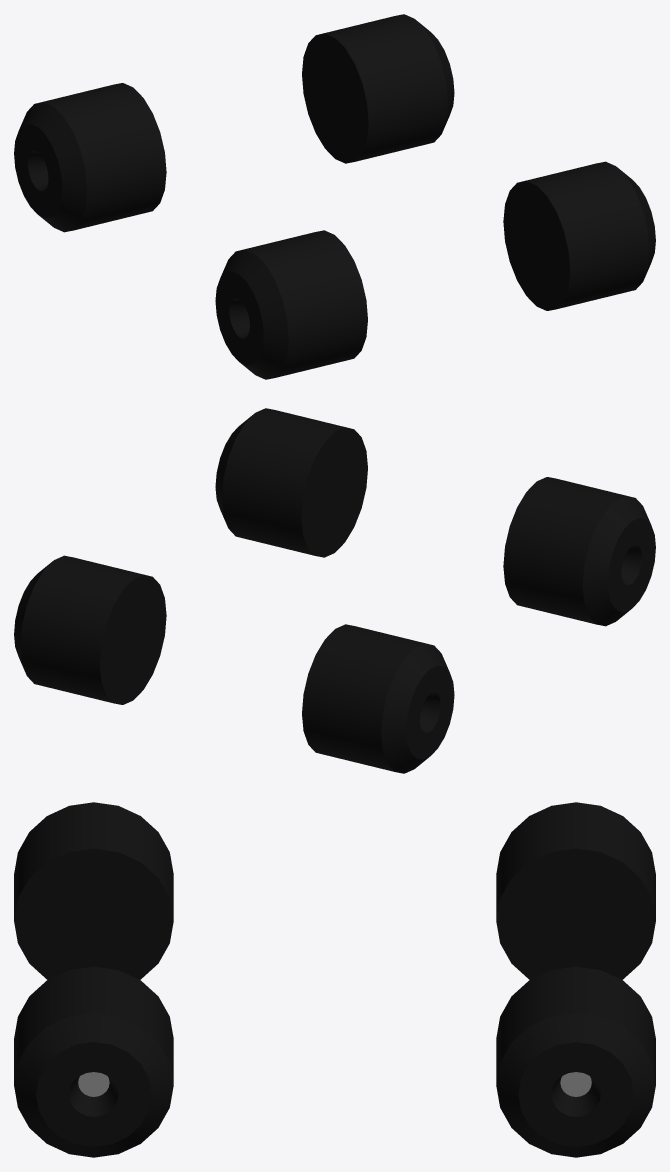
Rendered from ROUND-WHEELS-7kRVS1ol.glb.
3 renders of one model, top to bottom at view 1: azimuth 30°, elevation 25°; view 2: azimuth 150°, elevation 25°; view 3: azimuth 270°, elevation 25°, orthographic. The views are drawn at different scales.
Size of the model in its own units: 1.69 by 0.4982 by 2.
1 material, 1 textured.
